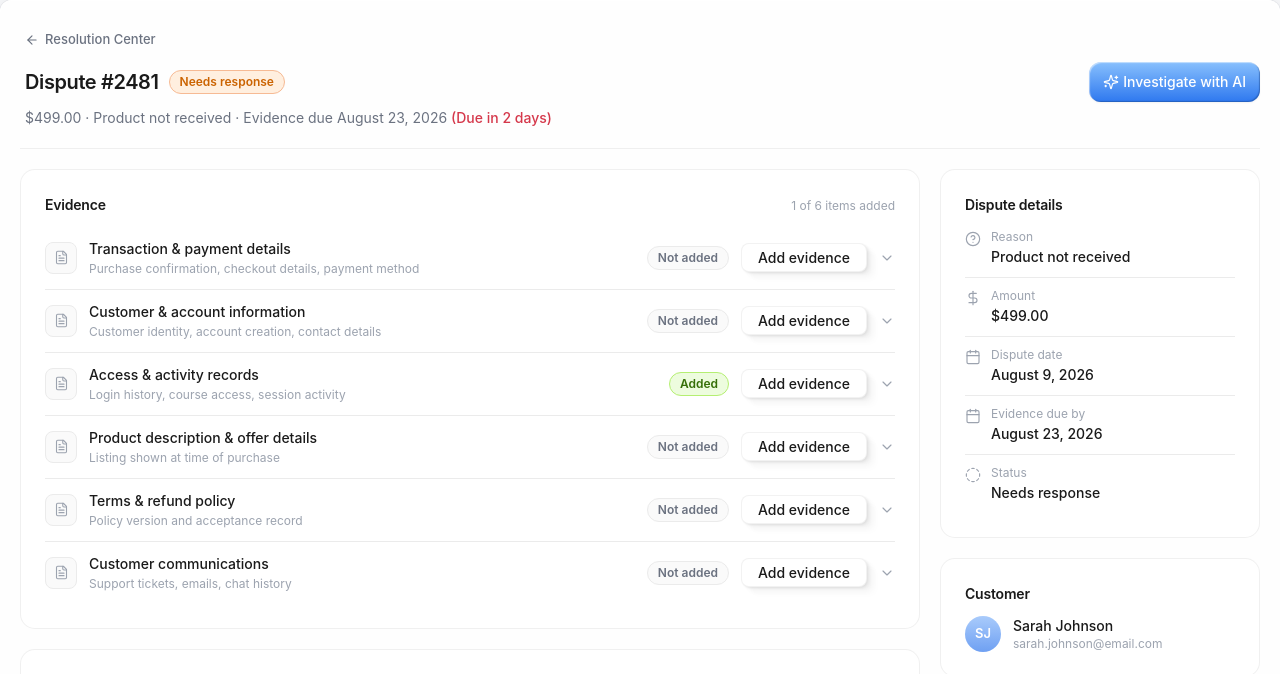
Test case: Evidence checklist accordion › starts every category collapsed, expands on click, and shows entries with metadata and attachment chips
This screenshot has width=1280, height=674.
Expected: the text "Portal access log" is not shown
Click the text "Access & activity records": x=174, y=374 [89,366,259,382]
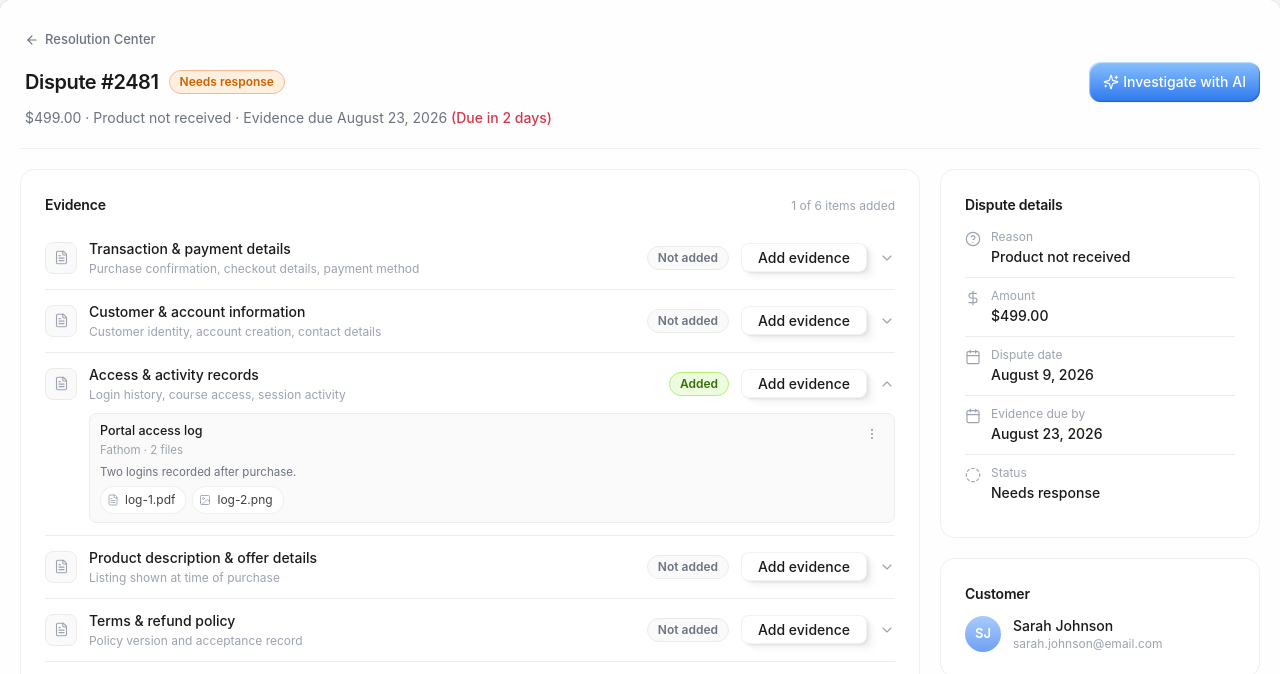
Expected: the text "Portal access log" is shown, [100,422,202,440]
Expected: the text "Fathom · 2 files" is shown, [100,443,183,457]
Expected: the text "log-1.pdf" is shown, [125,490,176,508]
# Collapses back on a second click.
Click the text "Access & activity records": x=174, y=374 [89,366,259,382]
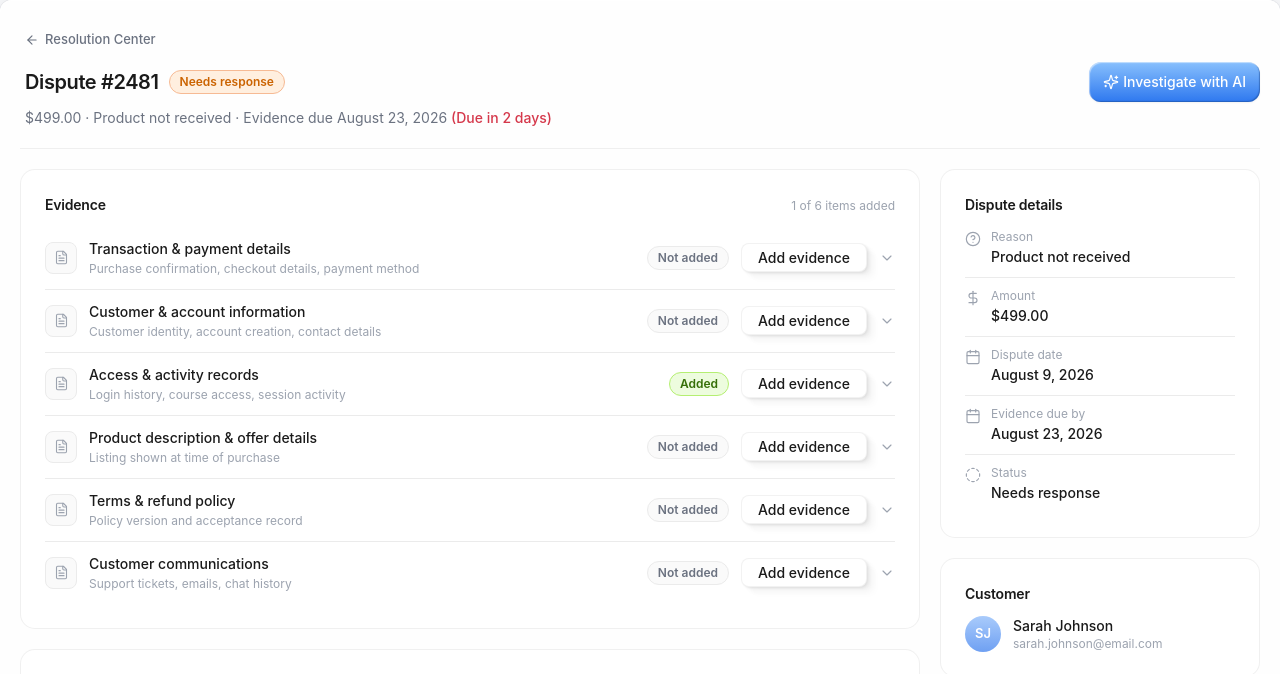
Expected: the button "Portal access log" is gone
